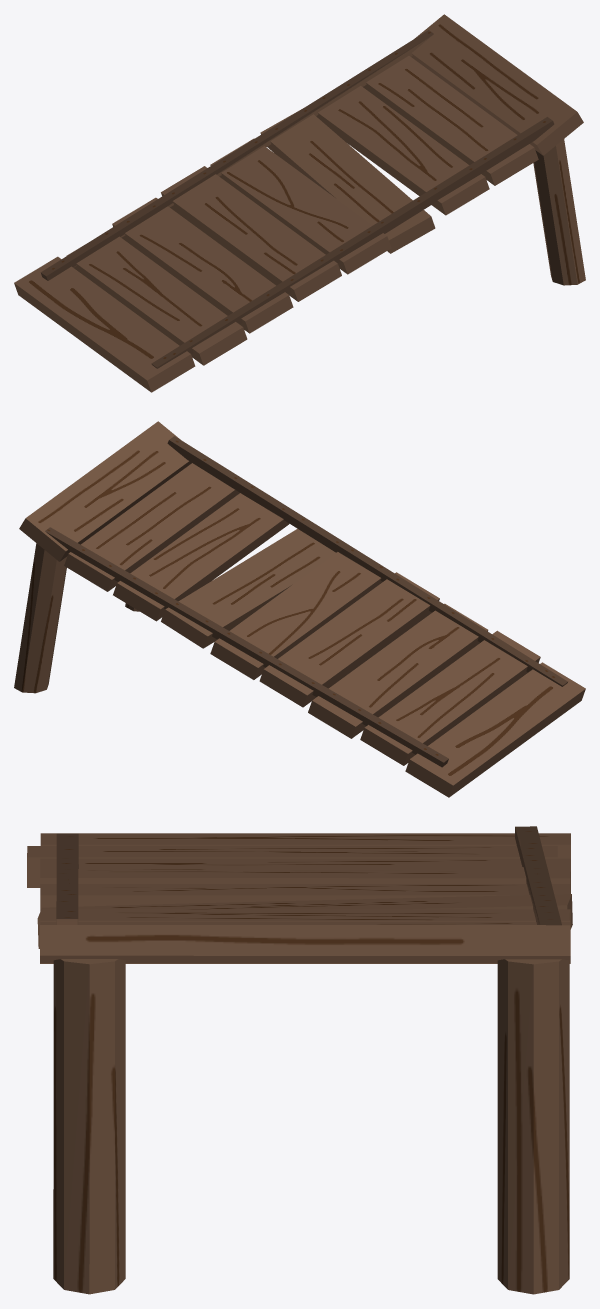
File: PT_ramp_002.FBX
The picture shows the model from 3 angles, top to bottom: view 1: azimuth 30°, elevation 25°; view 2: azimuth 150°, elevation 25°; view 3: azimuth 270°, elevation 25°; orthographic projection. The views are drawn at different scales.
Visible parts, largest first — view 1: Box158; view 2: Box158; view 3: Box158.
Part boxes in pixels (x1,y1,x2,y2): Box158: [14, 14, 585, 392]; Box158: [14, 421, 585, 797]; Box158: [27, 826, 572, 1294].
Size of the model in its own units: 53.46 by 20.13 by 28.27.
1 material, 1 textured.
